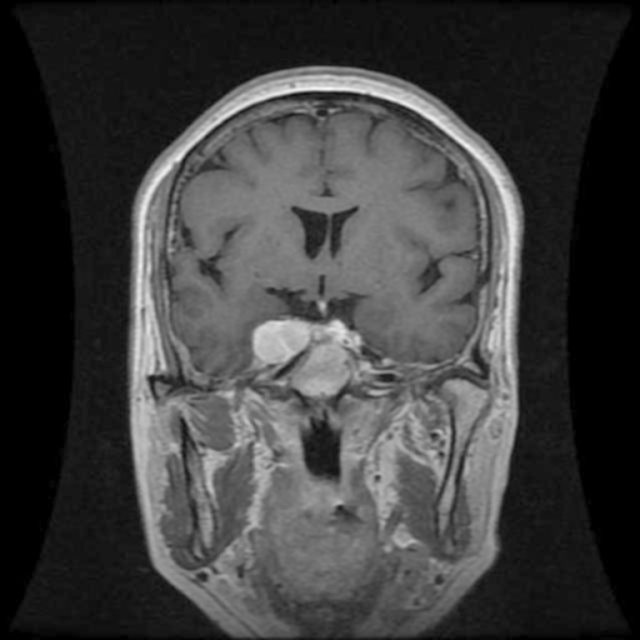meningioma tumor: (244, 311, 330, 375)
